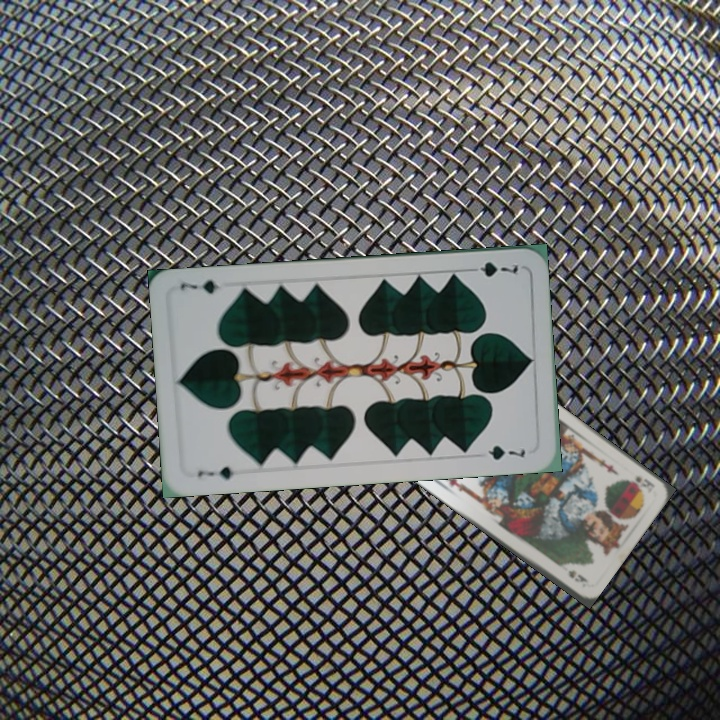G7: (463, 257, 520, 280), (193, 462, 236, 482)
SK: (623, 472, 657, 495)
